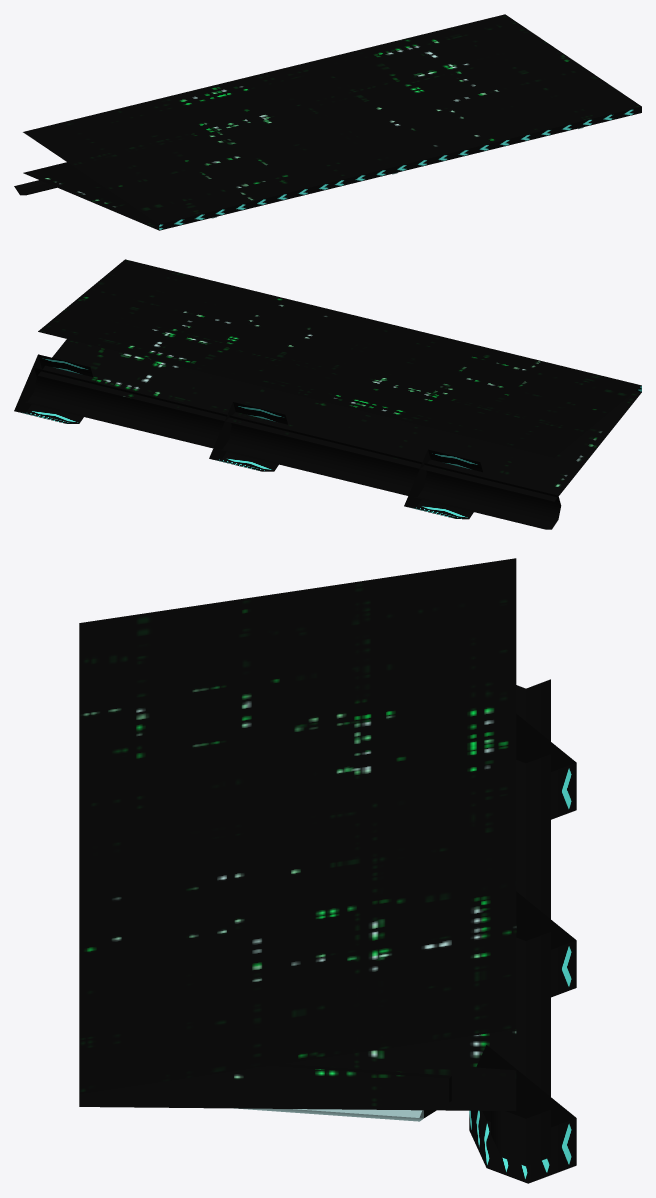
File: Japanese_Roof_Art.fbx
The picture shows the model from 3 angles, top to bottom: view 1: azimuth 30°, elevation 25°; view 2: azimuth 150°, elevation 25°; view 3: azimuth 270°, elevation 25°; orthographic projection. The views are drawn at different scales.
Parts seen in each view (by area): view 1: Japanese_Roof; view 2: Japanese_Roof; view 3: Japanese_Roof.
Boxes of the visible parts, bbox=[...] form: Japanese_Roof: bbox=[14, 14, 641, 230]; Japanese_Roof: bbox=[14, 259, 641, 529]; Japanese_Roof: bbox=[79, 558, 576, 1183].
Bounding box in the file's own units: 2.4 × 0.3323 × 1.01.
